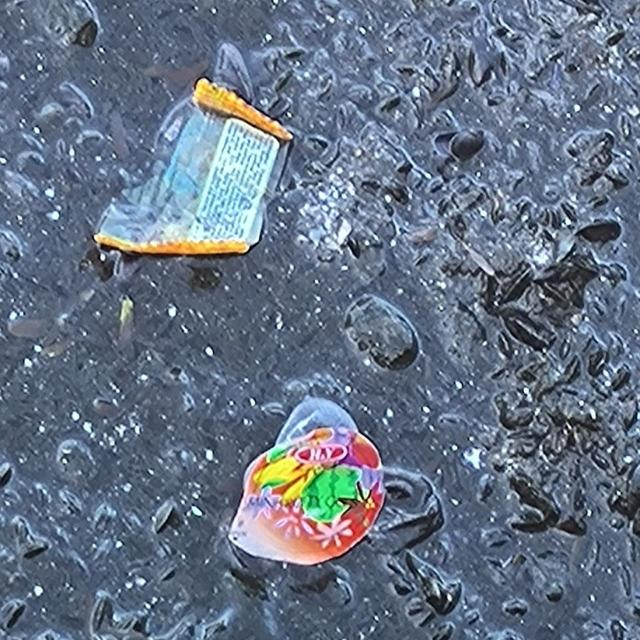plastic_waste: (95, 78, 299, 256), (227, 395, 386, 567)
